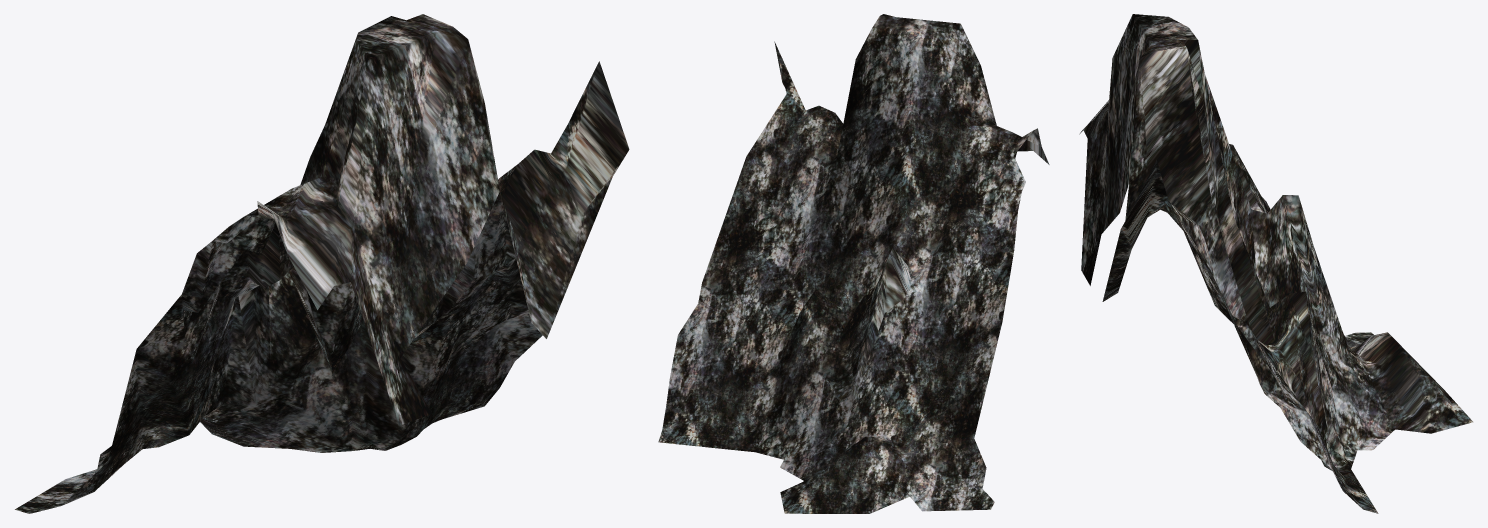
Rendered from OVERHILL_A_01_MOUN1_OBJECT159.fbx.
3 renders of one model, left to right at view 1: azimuth 30°, elevation 25°; view 2: azimuth 150°, elevation 25°; view 3: azimuth 270°, elevation 25°, orthographic. The views are drawn at different scales.
Parts seen in each view (by area): view 1: OVERHILL_A_01_MOUN1_OBJECT159; view 2: OVERHILL_A_01_MOUN1_OBJECT159; view 3: OVERHILL_A_01_MOUN1_OBJECT159.
Part boxes in pixels (bbox=[...]): OVERHILL_A_01_MOUN1_OBJECT159: bbox=[15, 14, 629, 513]; OVERHILL_A_01_MOUN1_OBJECT159: bbox=[658, 14, 1049, 513]; OVERHILL_A_01_MOUN1_OBJECT159: bbox=[1079, 14, 1473, 513].
Bounding box in the file's own units: 326606 × 342959 × 303893.
1 material, 1 textured.
